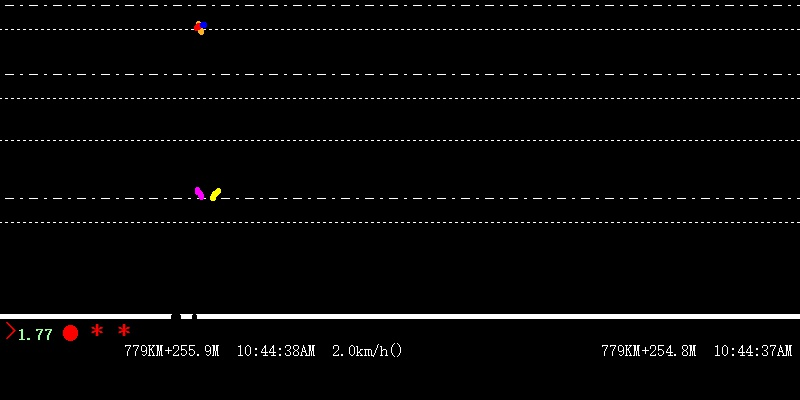circle: (62, 324, 78, 342)
face_s: (193, 20, 207, 38)
star: (89, 322, 105, 340), (116, 324, 132, 339)
